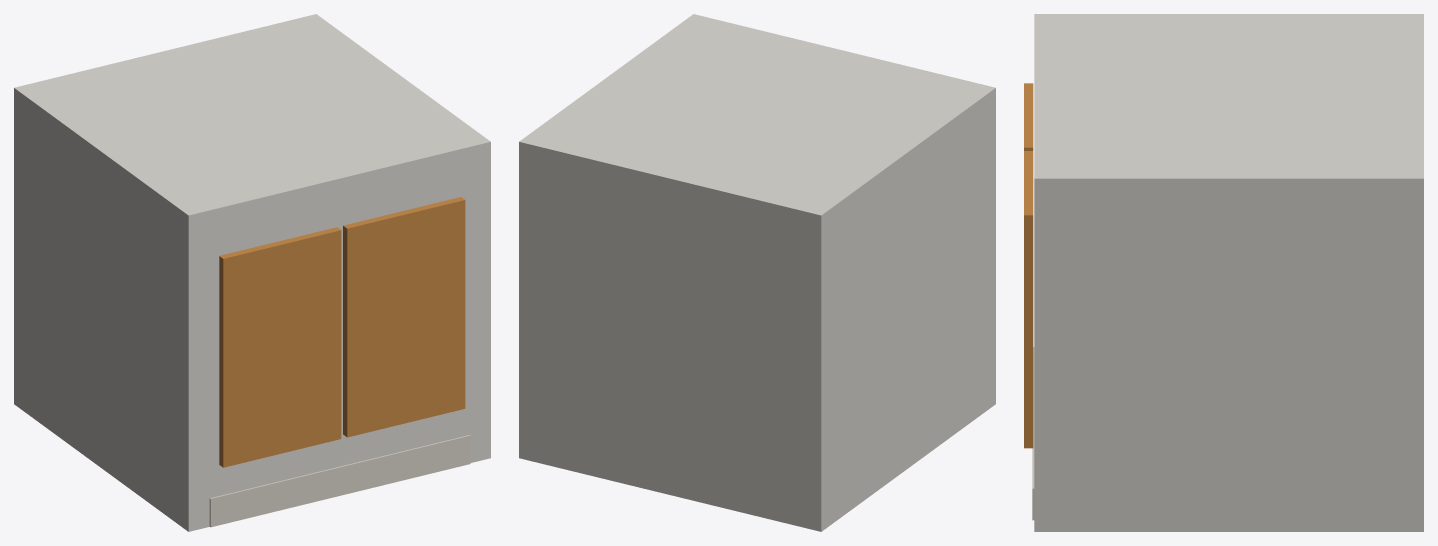
File: flatBaseHandleless.glb
The picture shows the model from 3 angles, left to right: view 1: azimuth 30°, elevation 25°; view 2: azimuth 150°, elevation 25°; view 3: azimuth 270°, elevation 25°; orthographic projection. The views are drawn at different scales.
Visible parts, largest first — view 1: body, doorLeft, doorRight, toeKick; view 2: body; view 3: body, doorRight, doorLeft.
Part boxes in pixels (<box>): body: <box>14,14,490,531</box>; doorLeft: <box>219,227,341,467</box>; doorRight: <box>343,197,465,437</box>; toeKick: <box>209,435,470,527</box>; body: <box>519,14,995,531</box>; body: <box>1034,14,1423,531</box>; doorRight: <box>1024,151,1033,448</box>; doorLeft: <box>1024,83,1033,150</box>.
Size of the model in its own units: 1 by 1 by 1.03.
